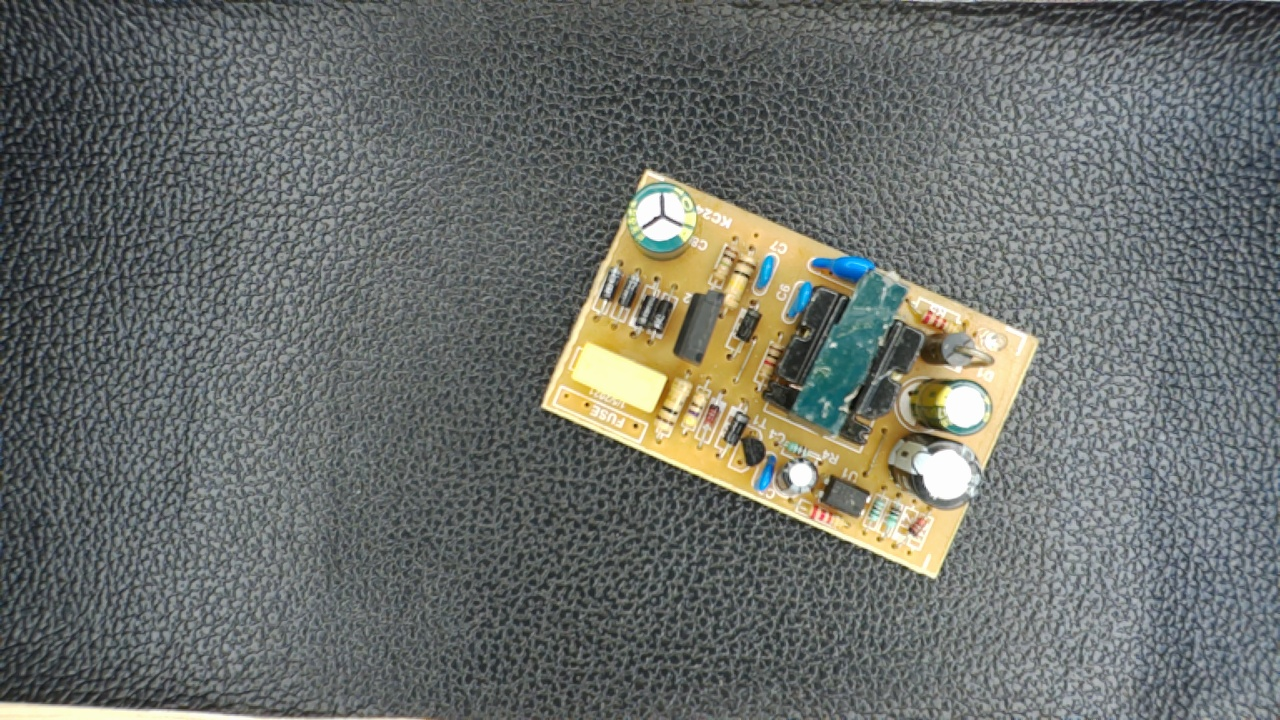hv_capacitor: (626, 182, 702, 260)
mov: (807, 251, 881, 284)
optocoupler: (818, 474, 872, 521)
